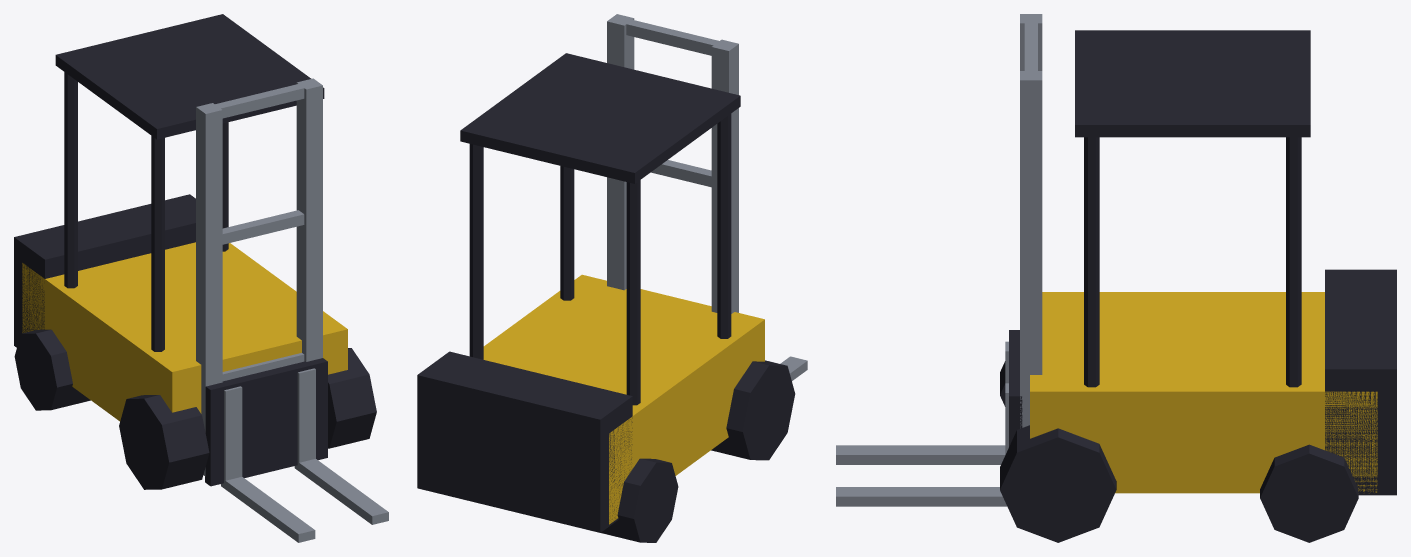
The model's file is machine-forklift-lod1.506995f4.glb.
The picture shows the model from 3 angles, left to right: view 1: azimuth 30°, elevation 25°; view 2: azimuth 150°, elevation 25°; view 3: azimuth 270°, elevation 25°; orthographic projection. The views are drawn at different scales.
Visible parts, largest first — view 1: Forklift_LOD1__T_vcol; view 2: Forklift_LOD1__T_vcol; view 3: Forklift_LOD1__T_vcol.
Part boxes in pixels (left/top/right/bottom): Forklift_LOD1__T_vcol: left=14, top=14, right=388, bottom=542; Forklift_LOD1__T_vcol: left=417, top=14, right=807, bottom=542; Forklift_LOD1__T_vcol: left=836, top=14, right=1396, bottom=542.
Size of the model in its own units: 1.24 by 2.15 by 2.5.
